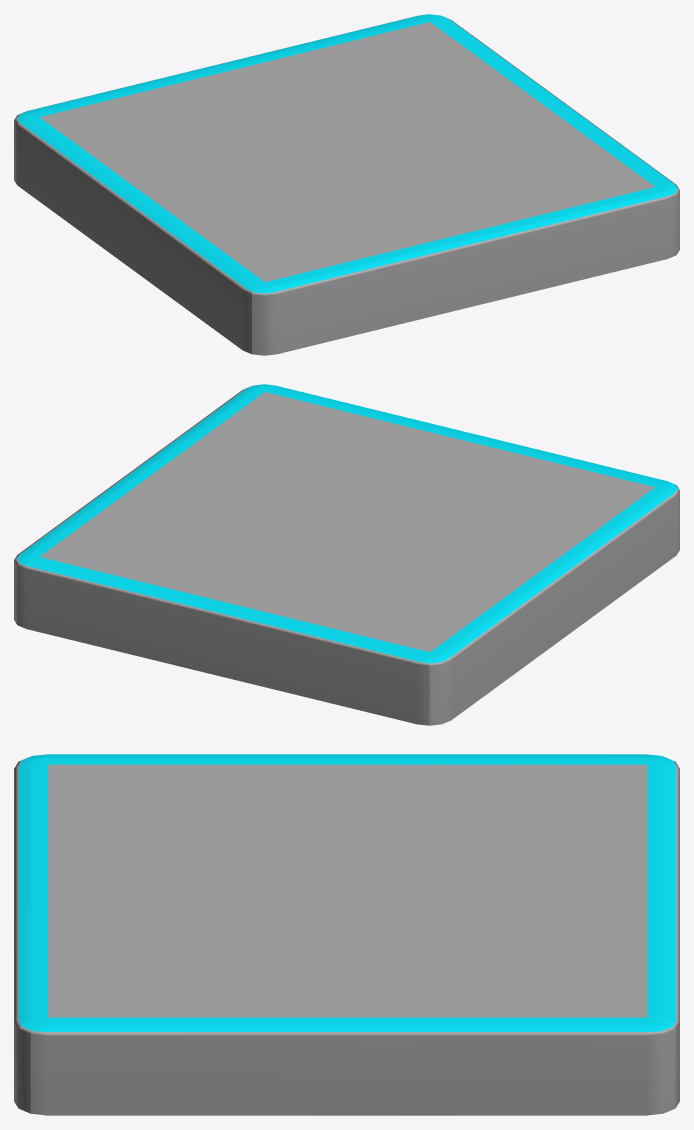
The model's file is CapacitorObjective_Base.fbx.
3 renders of one model, top to bottom at view 1: azimuth 30°, elevation 25°; view 2: azimuth 150°, elevation 25°; view 3: azimuth 270°, elevation 25°, orthographic. The views are drawn at different scales.
Parts seen in each view (by area): view 1: OBJECTIVE_BASE_02; view 2: OBJECTIVE_BASE_02; view 3: OBJECTIVE_BASE_02.
Boxes of the visible parts, x1,y1,x2,y2 form: OBJECTIVE_BASE_02: (14,14,679,355); OBJECTIVE_BASE_02: (14,384,679,725); OBJECTIVE_BASE_02: (14,754,679,1115).
Bounding box in the file's own units: 189 × 26.18 × 189.
